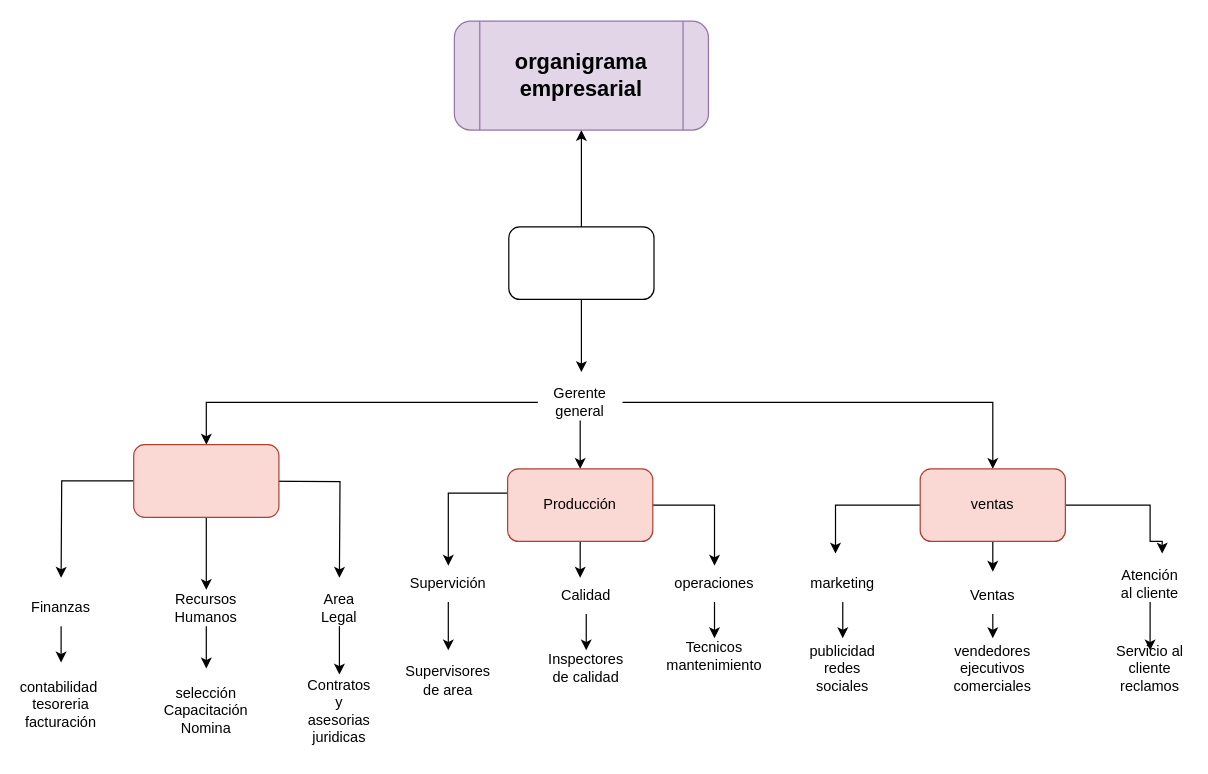
This 1208x774 diagram has some shape labels left out. The shapes that lost their labels are listed below. From the top down, each one's centre as x and y in pixels, then its label:
At point 581,262: "Empresa".
At point 205,480: "Administración".
